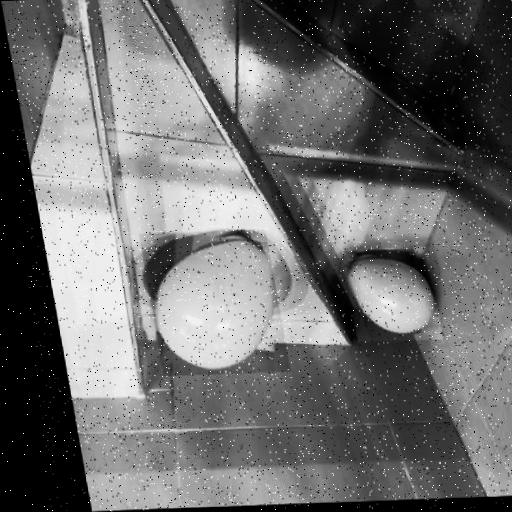balloon: (133, 230, 283, 376), (336, 248, 436, 343)
